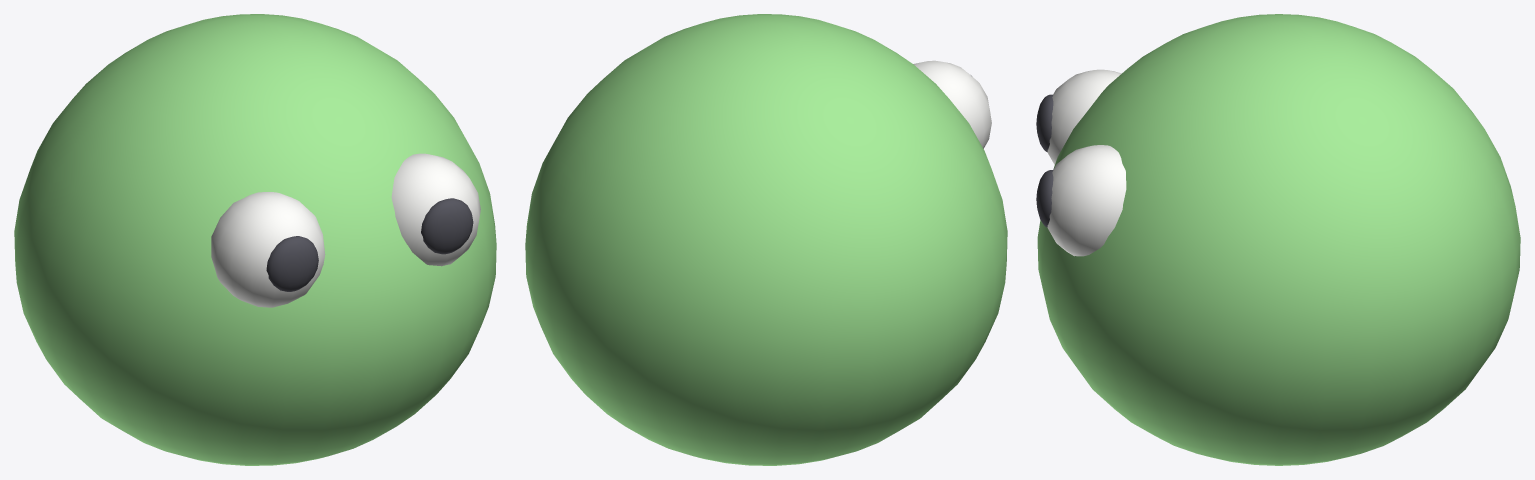
File: slime.glb
The picture shows the model from 3 angles, left to right: view 1: azimuth 30°, elevation 25°; view 2: azimuth 150°, elevation 25°; view 3: azimuth 270°, elevation 25°; orthographic projection.
Visible parts, largest first — view 1: slime; view 2: slime; view 3: slime.
Boxes of the visible parts, x1,y1,x2,y2 form: slime: [14, 14, 496, 465]; slime: [525, 14, 1007, 465]; slime: [1036, 14, 1520, 465].
Size of the model in its own units: 1.16 by 1 by 1.16.
